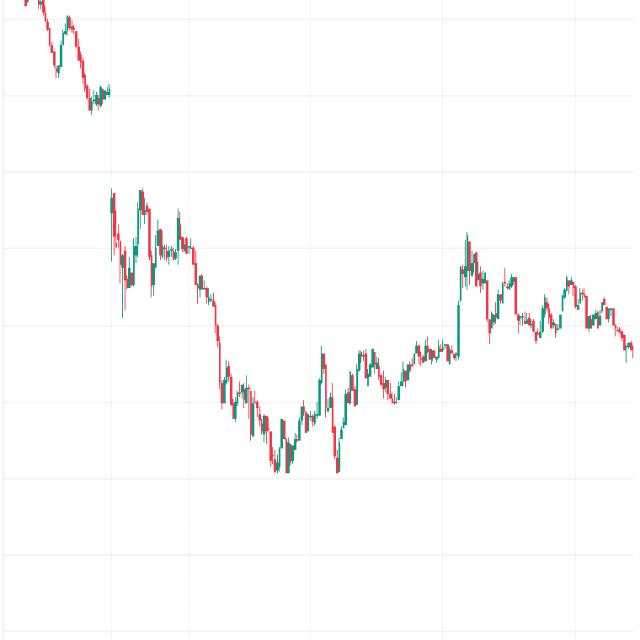Rising-Wedge: (319, 322, 466, 493)
